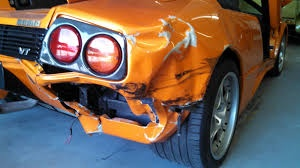Dent: (34, 13, 221, 142)
Scratch: (153, 21, 201, 58)
